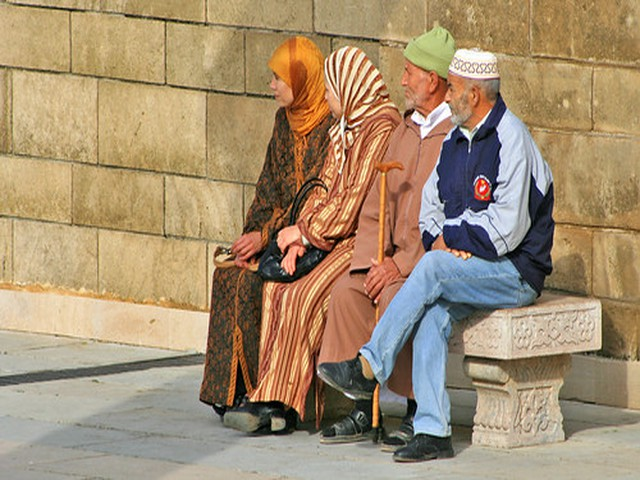Person: (208, 26, 548, 459)
